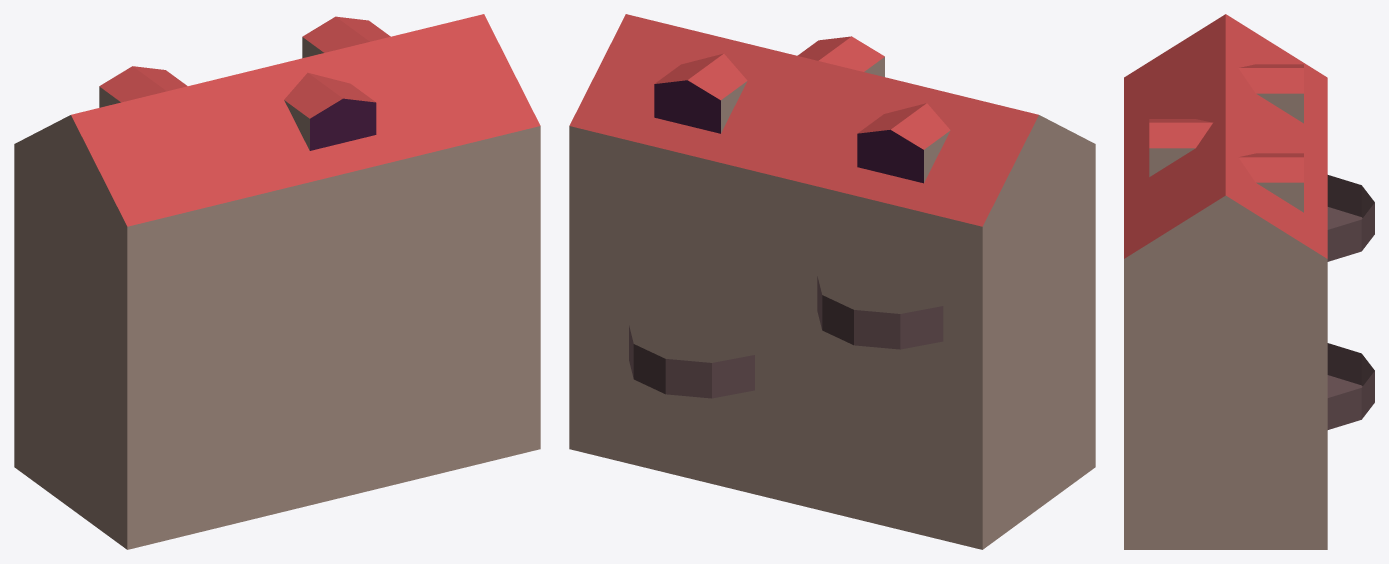
The model's file is house6.fbx.
The picture shows the model from 3 angles, left to right: view 1: azimuth 30°, elevation 25°; view 2: azimuth 150°, elevation 25°; view 3: azimuth 270°, elevation 25°; orthographic projection. The views are drawn at different scales.
Visible parts, largest first — view 1: House6; view 2: House6; view 3: House6.
Part boxes in pixels (bbox=[...]): House6: bbox=[14, 14, 540, 549]; House6: bbox=[569, 14, 1095, 549]; House6: bbox=[1124, 14, 1374, 549].
Bounding box in the file's own units: 49.51 × 28.92 × 45.09.
